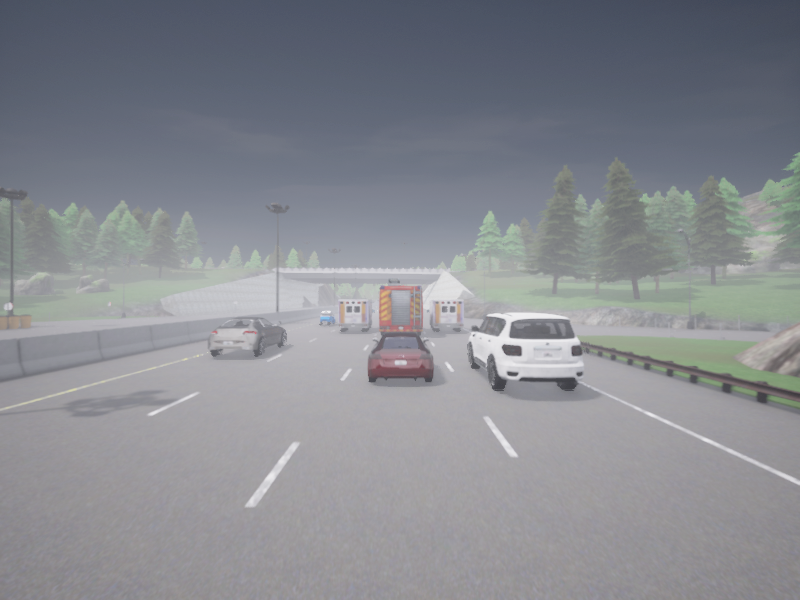vehicle: (468, 312, 583, 390), (367, 332, 433, 381), (208, 317, 286, 355), (379, 278, 422, 335), (337, 300, 374, 330), (426, 300, 463, 330), (320, 311, 335, 325)
